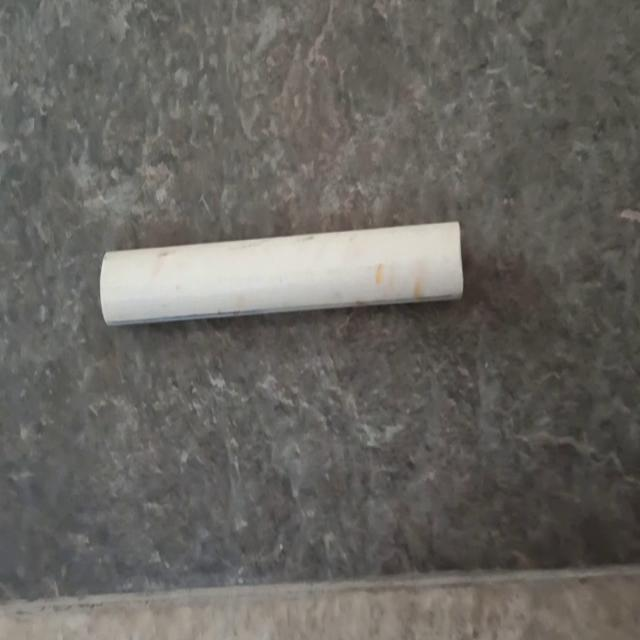Cube: (98, 218, 464, 327)
